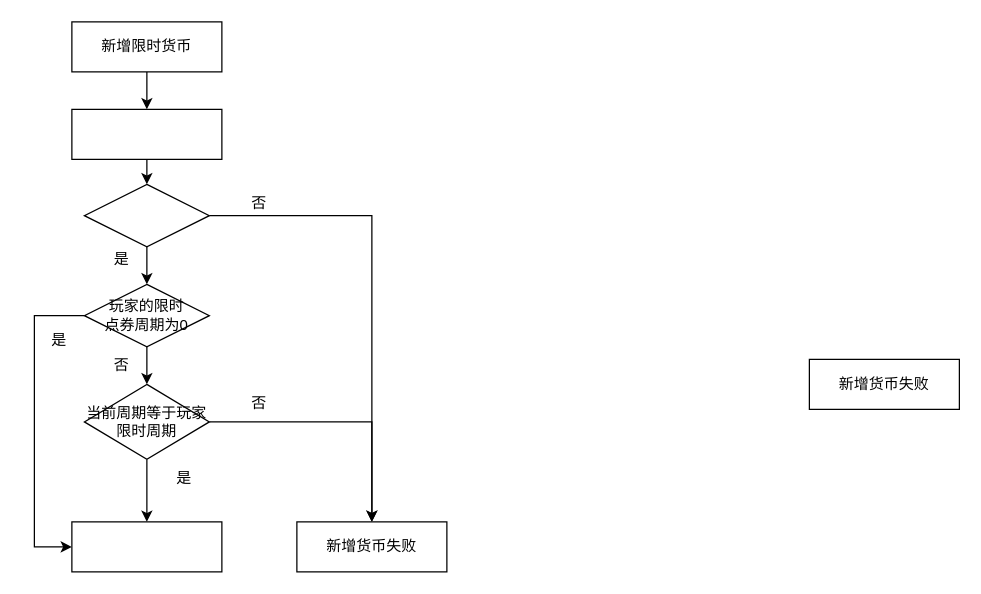
Image size: 981x594. Some labels were removed from this diagram. Each missing label, with the box of its shape:
周期不为0: (83, 183, 209, 247)
新增限时货币 更新周期ID: (71, 521, 222, 572)
获取当前时间对应周期: (71, 108, 222, 159)
